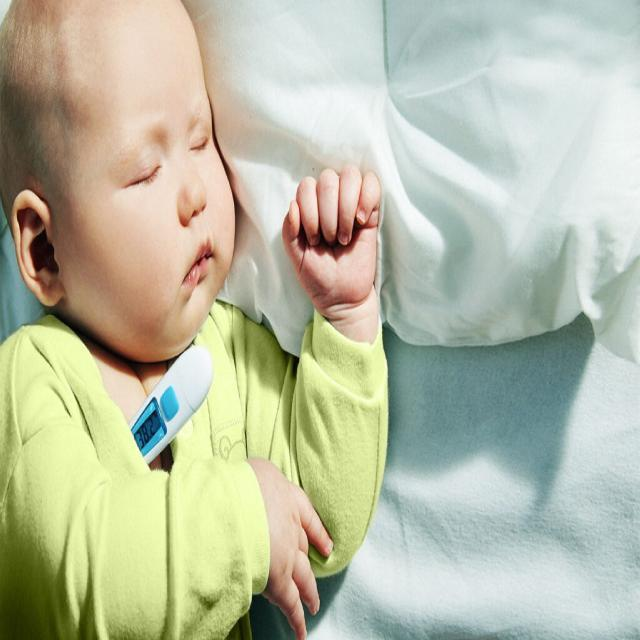non-dog: (1, 0, 391, 640)
